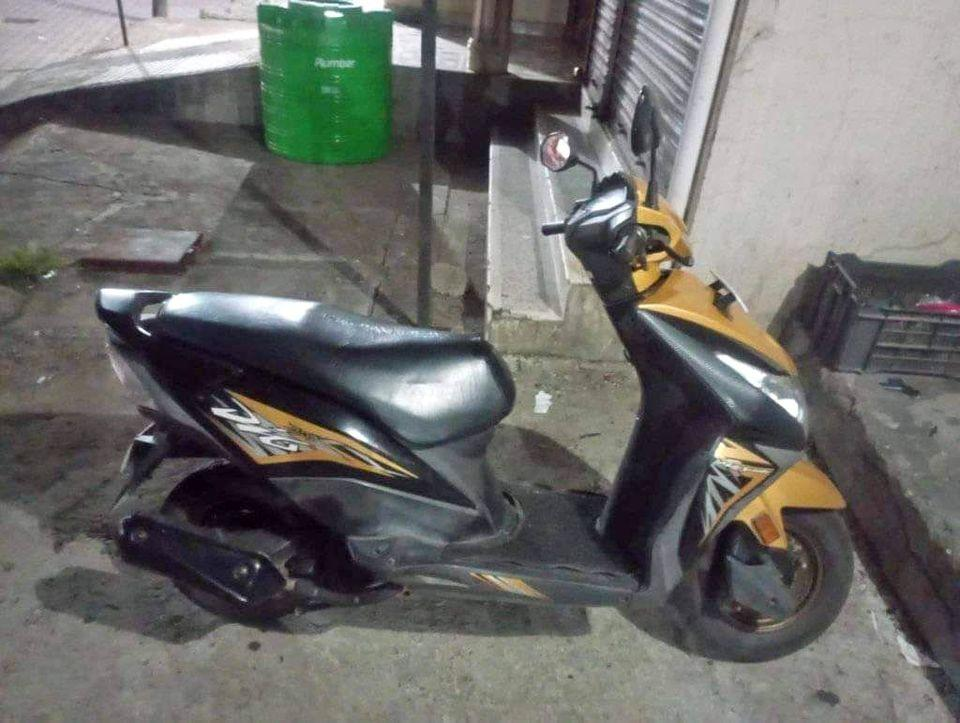scooter: (90, 82, 859, 662)
